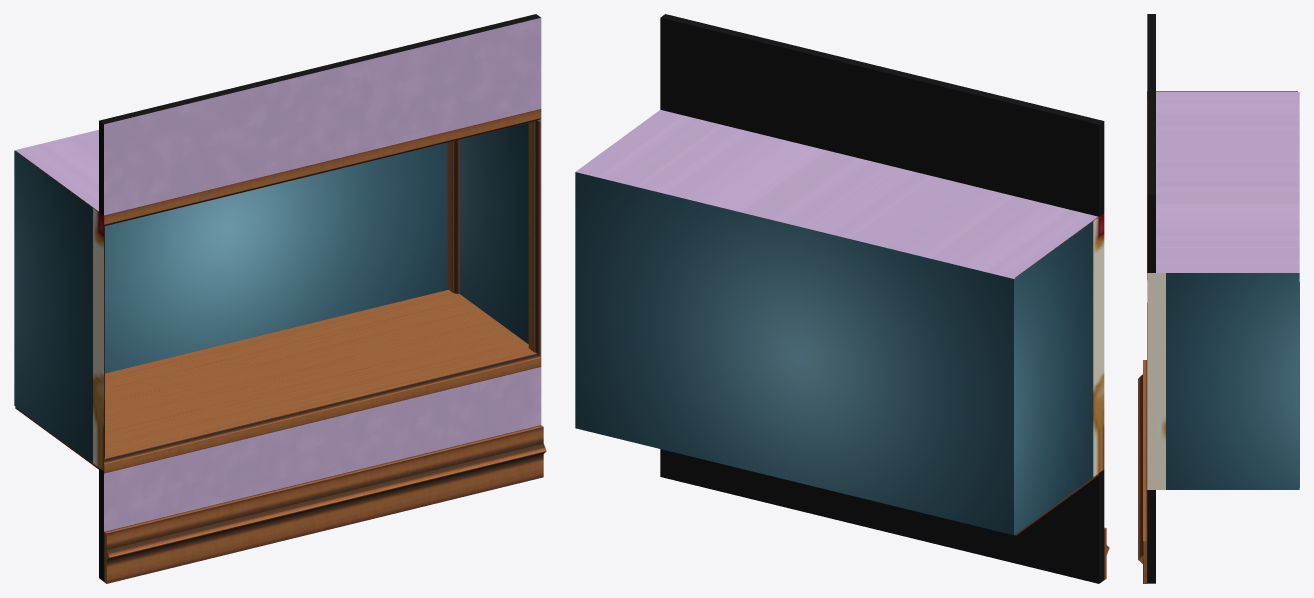
File: Wall_Window_Display_B_07.FBX
3 views of the same model, side by side, from view 1: azimuth 30°, elevation 25°; view 2: azimuth 150°, elevation 25°; view 3: azimuth 270°, elevation 25° (orthographic). The views are drawn at different scales.
Parts seen in each view (by area): view 1: Wall_Window DisplayB; view 2: Wall_Window DisplayB; view 3: Wall_Window DisplayB.
Boxes of the visible parts, box(x1,y1,x2,y2) form: Wall_Window DisplayB: box(14, 14, 546, 583); Wall_Window DisplayB: box(575, 14, 1109, 583); Wall_Window DisplayB: box(1138, 14, 1299, 583).
Bounding box in the file's own units: 500 × 500 × 189.
